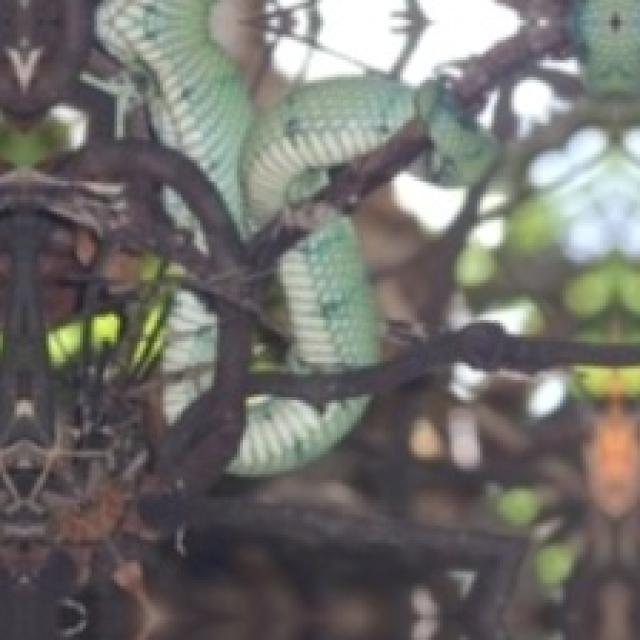north ph temple pitviper: (97, 0, 414, 237), (191, 214, 377, 417), (229, 394, 363, 471)
